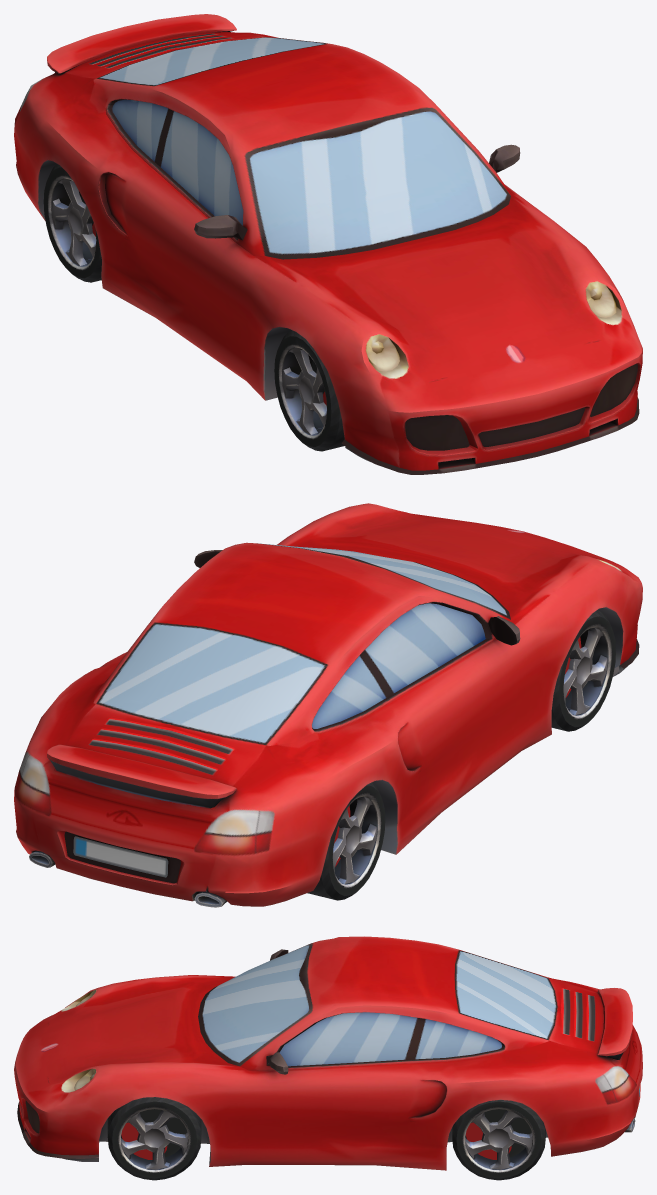
The model's file is Car-4.fbx.
3 views of the same model, one above another, from view 1: azimuth 30°, elevation 25°; view 2: azimuth 150°, elevation 25°; view 3: azimuth 270°, elevation 25° (orthographic). The views are drawn at different scales.
Visible parts, largest first — view 1: Car-4, Car-4-W-F-R, Car-4-W-B; view 2: Car-4, Car-4-W-F-R, Car-4-W-B; view 3: Car-4, Car-4-W-F-L, Car-4-W-B.
Boxes of the visible parts, x1,y1,x2,y2 form: Car-4: (14, 14, 642, 474); Car-4-W-F-R: (274, 330, 344, 451); Car-4-W-B: (43, 164, 101, 282); Car-4: (14, 503, 642, 907); Car-4-W-F-R: (551, 610, 615, 731); Car-4-W-B: (307, 782, 385, 900); Car-4: (14, 936, 642, 1170); Car-4-W-F-L: (107, 1097, 201, 1180); Car-4-W-B: (452, 1100, 545, 1180).
Size of the model in its own units: 1.96 by 1.28 by 4.42.
